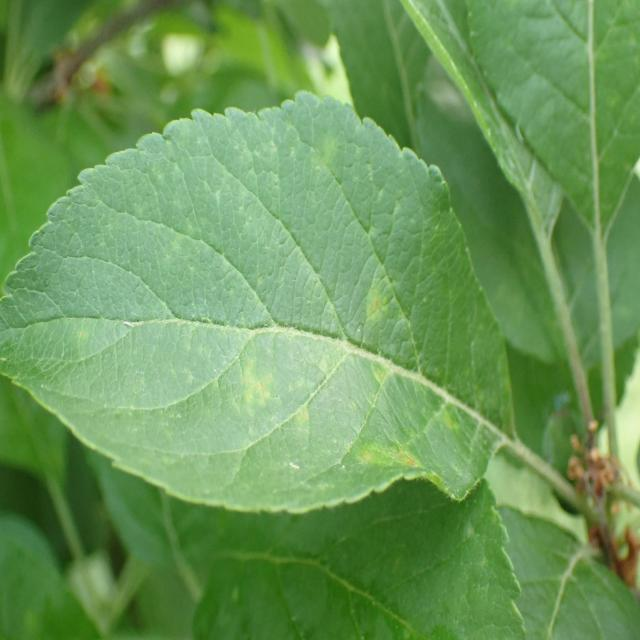scab: (74, 130, 480, 512)
